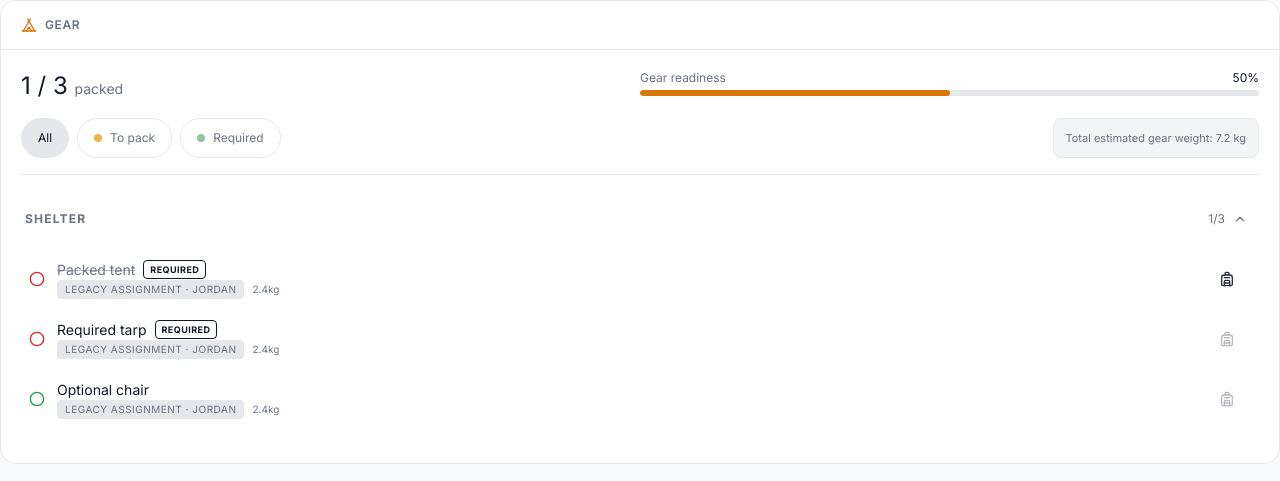
Test: GearChecklistCard › labels the former Needed filter accurately and preserves exact filter semantics
Click the button "To pack": (125, 138) [77,118,172,158]
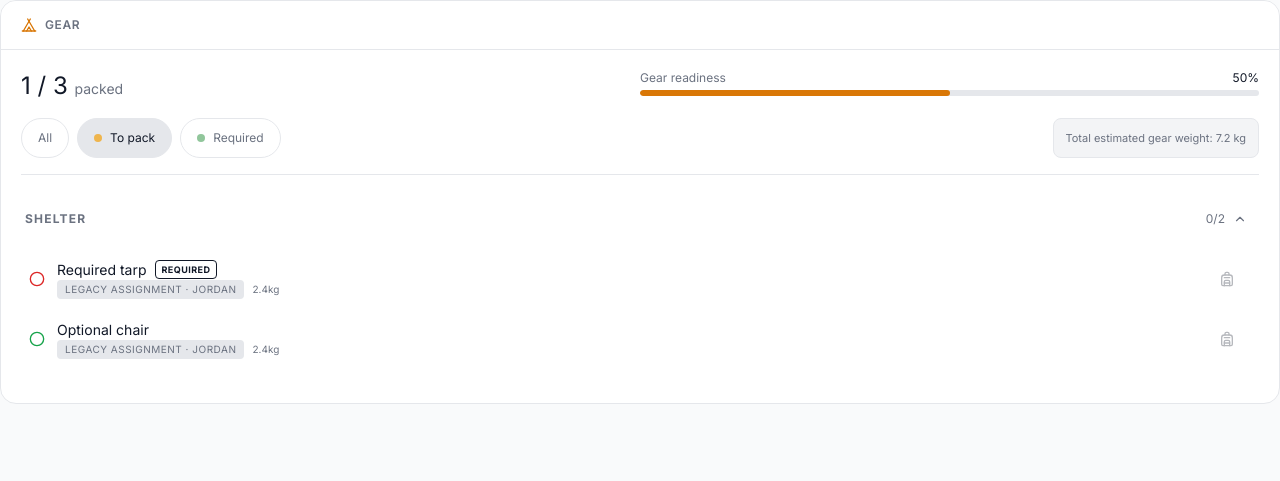
Expected: the text "Required tarp" is shown, [57,260,146,280]
Expected: the button "Packed tent" is gone
Click the button "Required": (230, 138) [180,118,281,158]
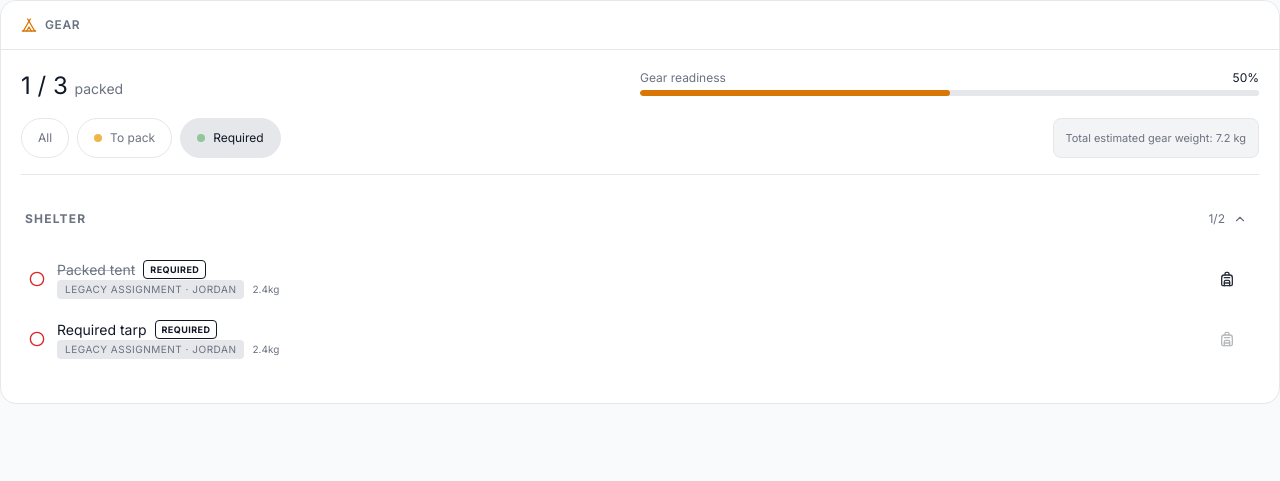
Expected: the text "Required tarp" is shown, [57,320,146,340]
Expected: the text "Packed tent" is shown, [57,260,135,280]
Expected: the button "Optional chair" is gone
